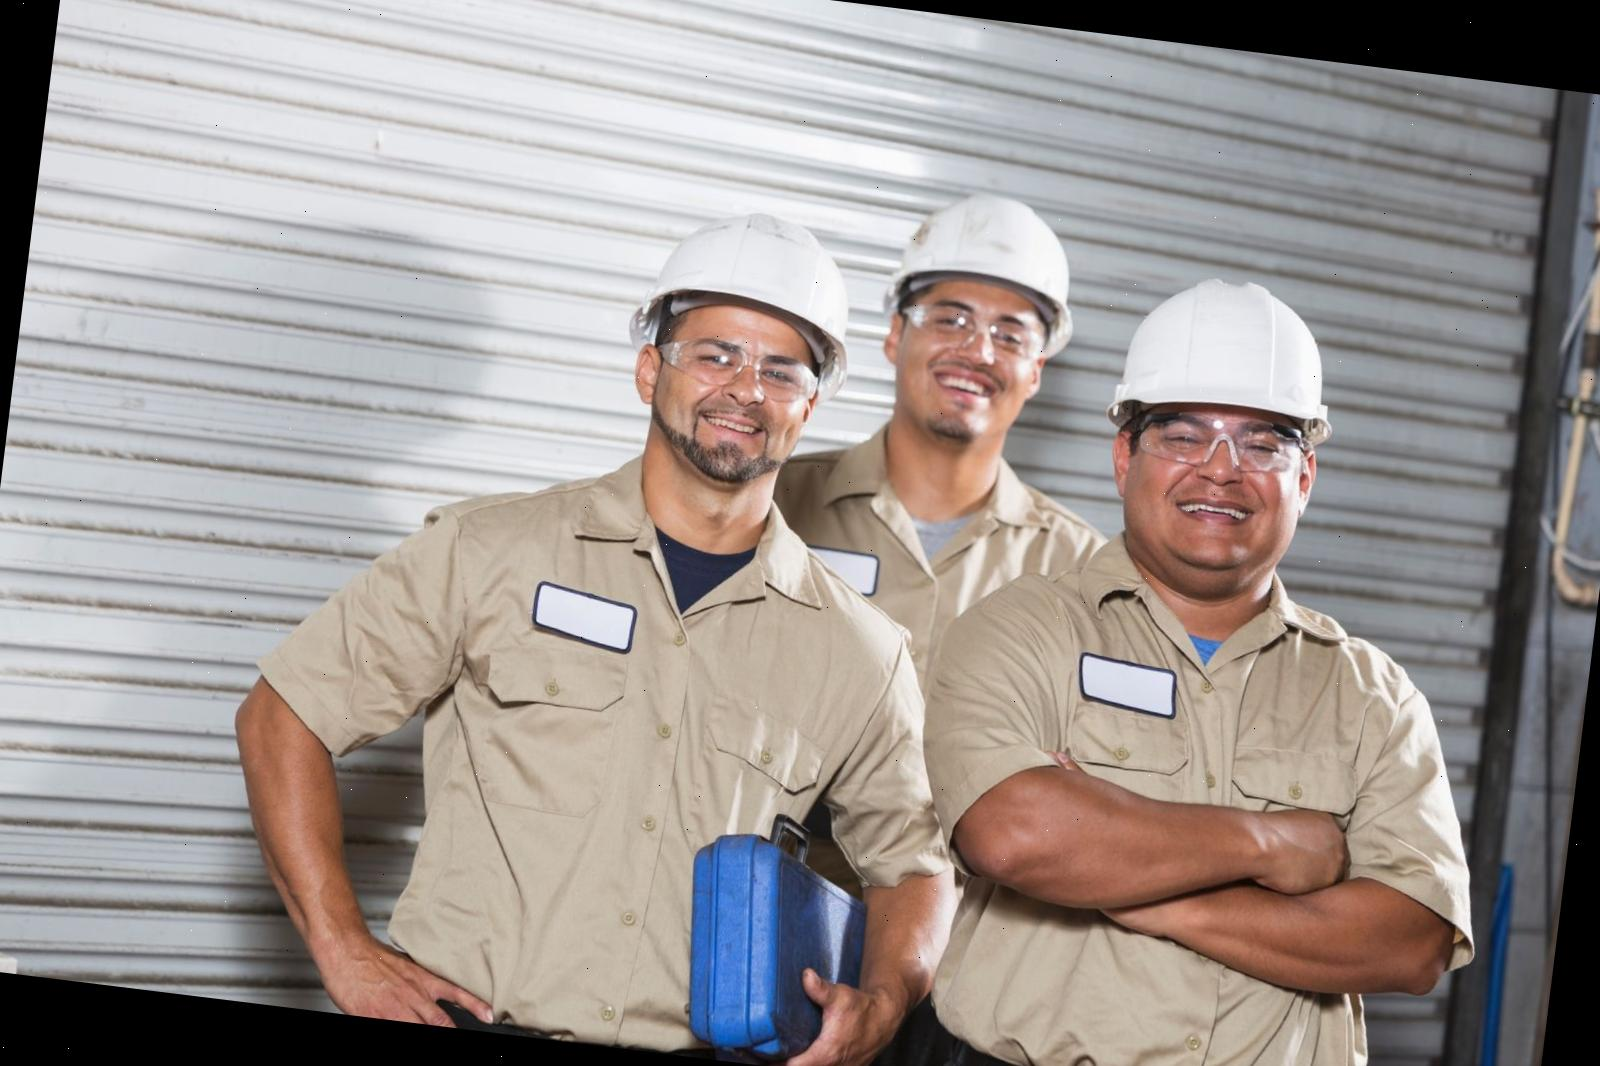helmet: (623, 194, 865, 396), (1111, 264, 1356, 446), (880, 178, 1093, 360)
wear: (384, 490, 906, 1066), (926, 570, 1435, 1066), (776, 451, 1084, 661)
